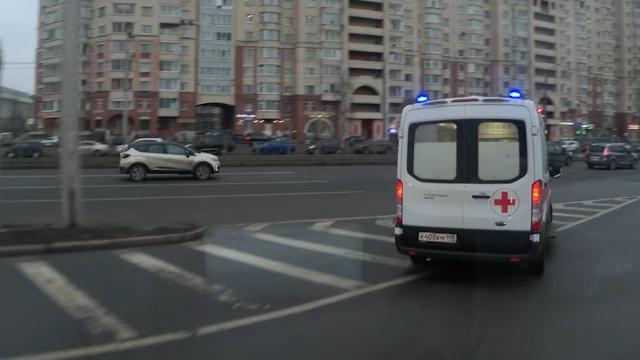ambulance: (394, 86, 554, 276)
non emergency car: (117, 138, 221, 182), (586, 140, 638, 170)
